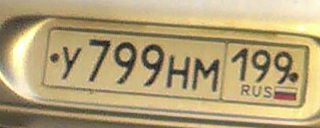character: (113, 41, 137, 86), (60, 40, 83, 83), (88, 37, 110, 81), (193, 56, 219, 93), (166, 54, 191, 91), (142, 45, 163, 87), (253, 47, 271, 85), (274, 50, 294, 84), (232, 47, 249, 83)
